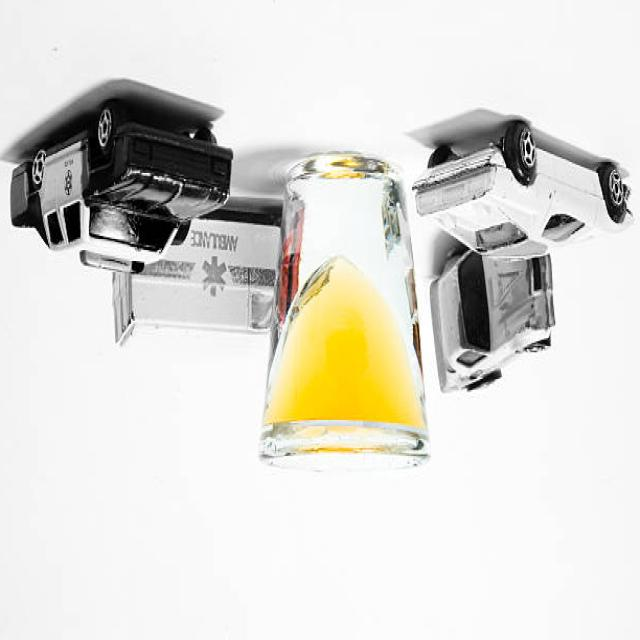Car: (11, 99, 234, 277), (412, 121, 635, 264)
